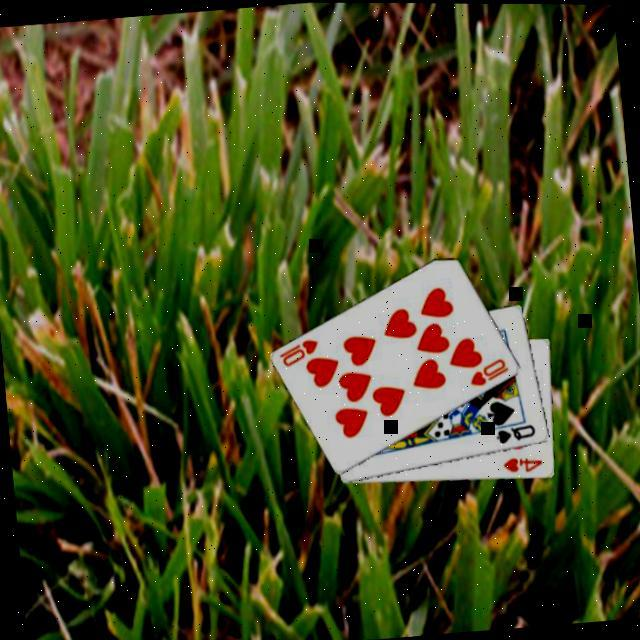10H: (466, 353, 516, 388), (276, 334, 326, 368)
4H: (501, 450, 547, 475)
QS: (493, 418, 541, 444)
